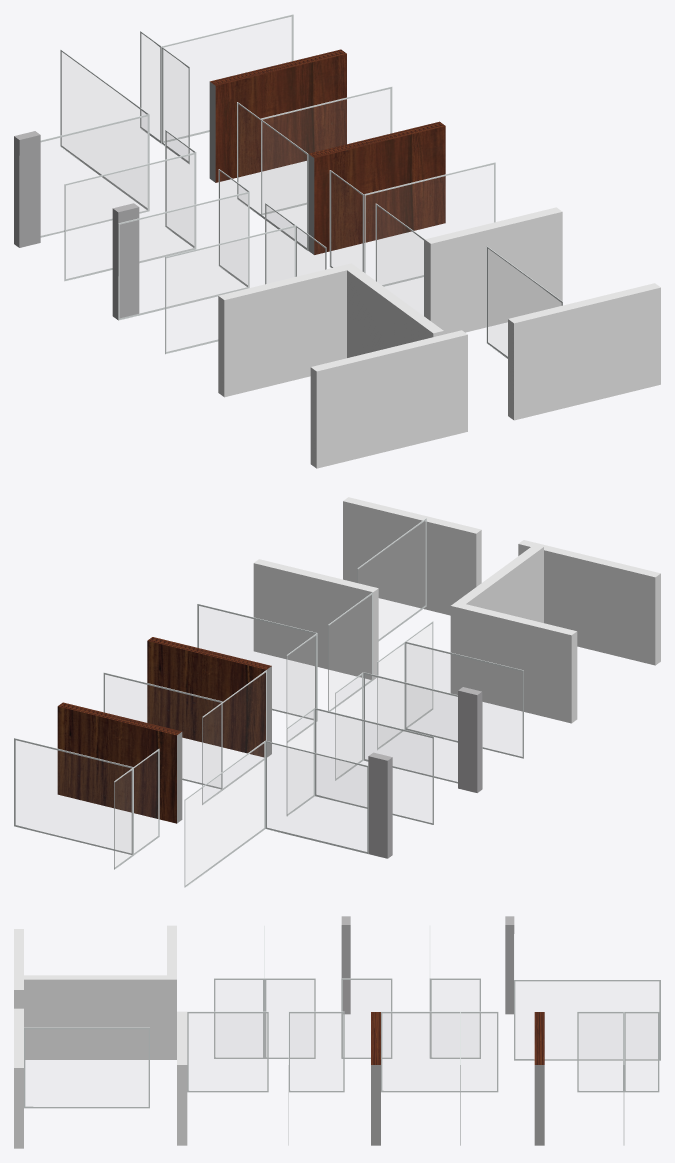
The model's file is paredes_p2.glb.
The picture shows the model from 3 angles, top to bottom: view 1: azimuth 30°, elevation 25°; view 2: azimuth 150°, elevation 25°; view 3: azimuth 270°, elevation 25°; orthographic projection. The views are drawn at different scales.
Parts seen in each view (by area): view 1: pared_frente.005, columna1.025, columna1.026, pared_frente.008, pared_frente.007, pared_frente.006, pared vidrio 1.012, pared vidrio 1.013, a_1_export.022, a_1_export.033, a_1_export.024, a_1_export.034 (+5 smaller); view 2: pared_frente.005, pared_frente.007, columna1.026, pared_frente.008, columna1.025, pared_frente.006, pared vidrio 1.013, pared vidrio 1.012, a_1_export.030, a_1_export.034, a_1_export.033, a_1_export.017 (+4 smaller); view 3: pared_frente.006, pared_frente.005, pared_frente.008, columna1.026, pared_frente.007, columna1.025, a_1_export.027, pared vidrio 1.013, pared vidrio 1.012, a_1_export.025, a_1_export.024, a_1_export.020 (+7 smaller).
Boxes of the visible parts, left/top/right/bottom form: pared_frente.005: left=310, top=283, right=660, bottom=468; columna1.025: left=308, top=121, right=445, bottom=254; columna1.026: left=209, top=49, right=346, bottom=182; pared_frente.008: left=424, top=207, right=562, bottom=334; pared_frente.007: left=218, top=263, right=357, bottom=397; pared_frente.006: left=347, top=268, right=443, bottom=357; pared vidrio 1.012: left=112, top=203, right=139, bottom=319; pared vidrio 1.013: left=14, top=131, right=40, bottom=247; a_1_export.022: left=118, top=191, right=249, bottom=320; a_1_export.033: left=64, top=152, right=195, bottom=281; a_1_export.024: left=60, top=49, right=149, bottom=211; a_1_export.034: left=165, top=225, right=296, bottom=354; pared_frente.005: left=343, top=497, right=660, bottom=665; pared_frente.007: left=450, top=602, right=577, bottom=723; columna1.026: left=57, top=702, right=182, bottom=823; pared_frente.008: left=253, top=559, right=378, bottom=679; columna1.025: left=147, top=637, right=271, bottom=757; pared_frente.006: left=456, top=544, right=543, bottom=622; pared vidrio 1.013: left=368, top=752, right=392, bottom=858; pared vidrio 1.012: left=458, top=687, right=482, bottom=792; a_1_export.030: left=14, top=738, right=133, bottom=854; a_1_export.034: left=405, top=641, right=523, bottom=758; a_1_export.033: left=315, top=708, right=433, bottom=824; a_1_export.017: left=265, top=741, right=368, bottom=853; pared_frente.006: left=24, top=975, right=166, bottom=1059; pared_frente.005: left=14, top=929, right=23, bottom=1148; pared_frente.008: left=177, top=1011, right=187, bottom=1145; columna1.026: left=534, top=1012, right=544, bottom=1145; pared_frente.007: left=167, top=925, right=176, bottom=1059; columna1.025: left=371, top=1012, right=380, bottom=1145; a_1_export.027: left=24, top=1027, right=149, bottom=1108; pared vidrio 1.013: left=505, top=916, right=514, bottom=1014; pared vidrio 1.012: left=341, top=916, right=350, bottom=1014; a_1_export.025: left=381, top=1011, right=498, bottom=1092; a_1_export.024: left=514, top=980, right=660, bottom=1060; a_1_export.020: left=187, top=1011, right=268, bottom=1092.
Size of the model in its own units: 58.8 by 18.19 by 115.
Materials: 6 (1 with a texture image).
